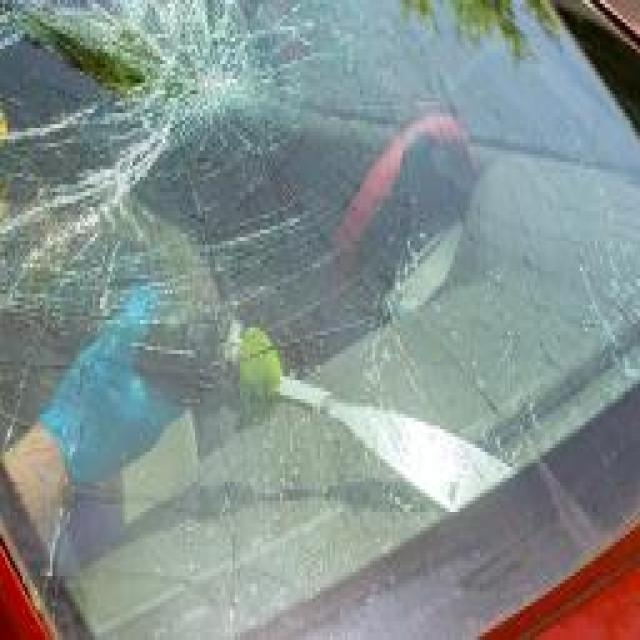Windshield: (2, 0, 640, 625)
